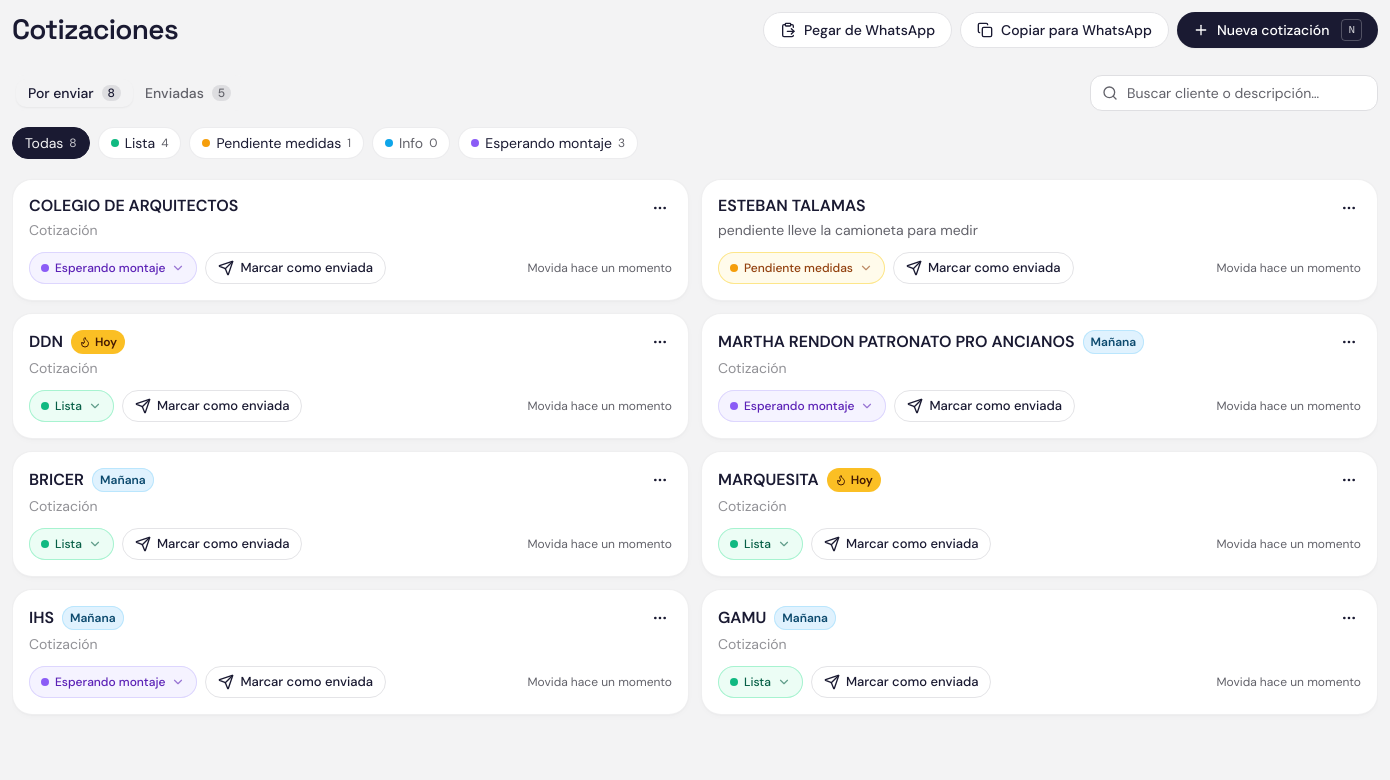
Scenario: Página Cotizaciones › pestaña Enviadas con sus subestados
Click the tab "Enviadas 5": (188, 93) [133,79,243,107]
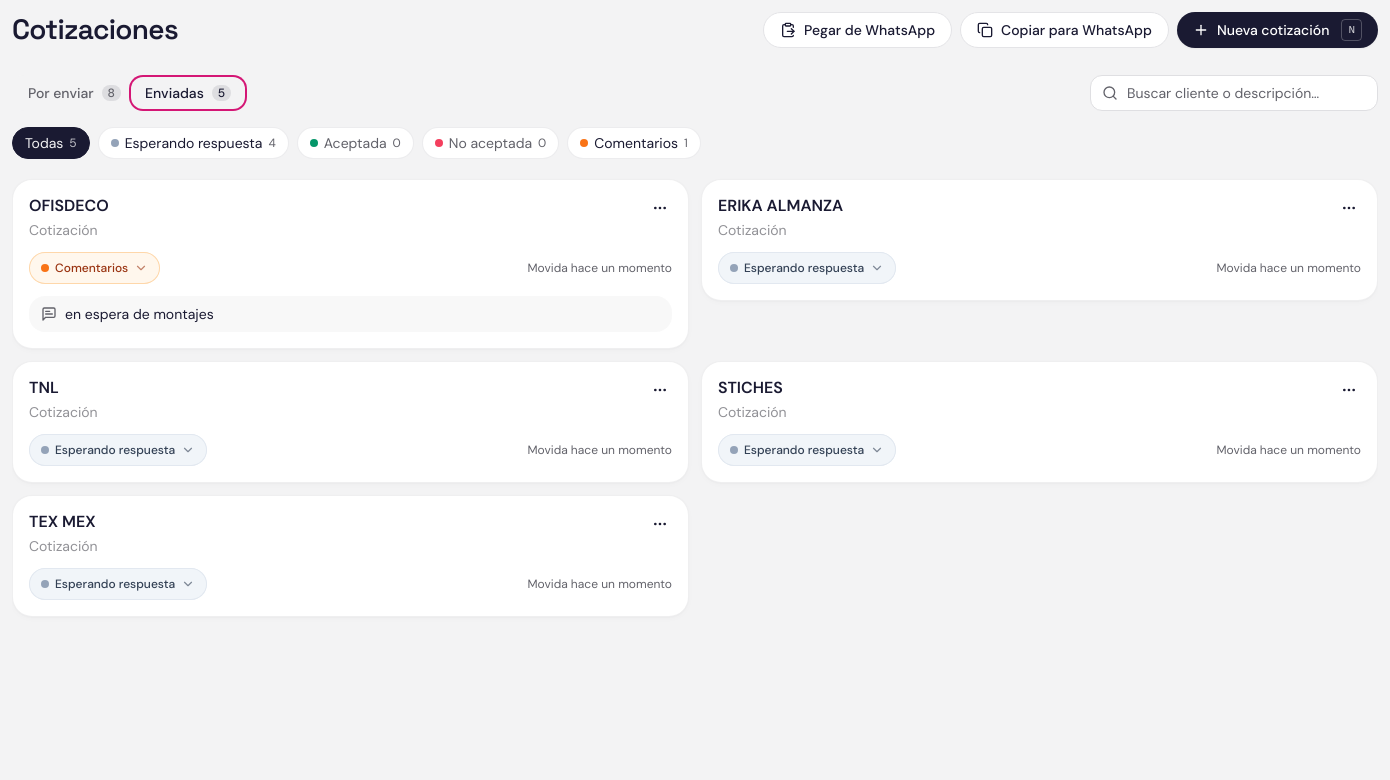
Result: the button with aria-label "Comentario: en espera de montajes" is shown at [29,296,672,332]
Result: the button "Esperando respuesta 4" is shown at [98,127,289,159]
